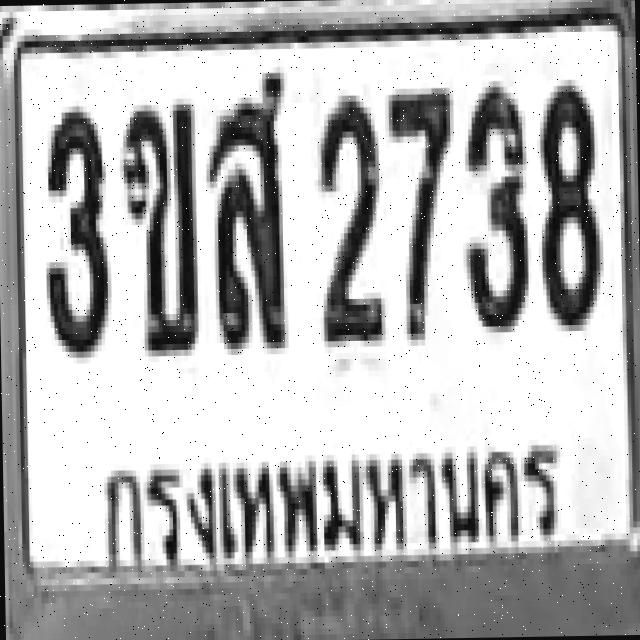11KhorKhai: (116, 95, 196, 348)
2: (314, 92, 383, 338)
3: (40, 100, 109, 352), (459, 78, 528, 330)
49SorSuea: (204, 67, 288, 343)
7: (386, 82, 455, 340)
8: (535, 79, 597, 325)
Bangkok: (92, 436, 566, 560)
